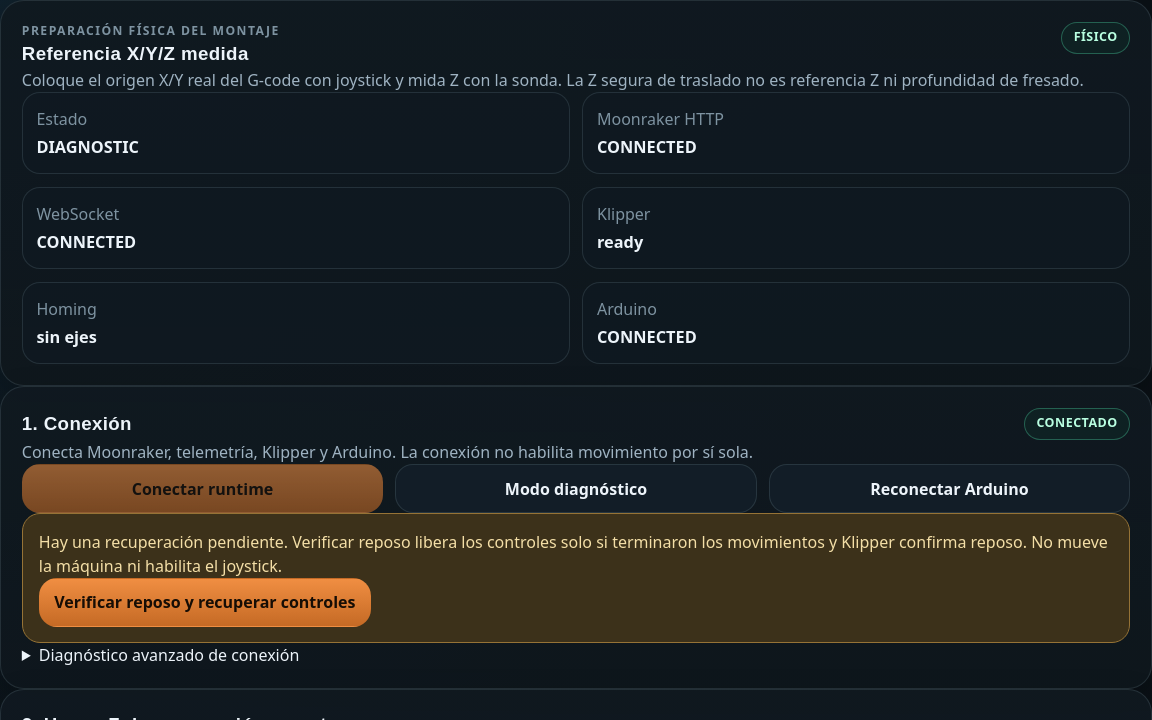
Test: ReferenceWorkspace connection and workflow UI › muestra el rechazo del backend sin simular recuperación
This screenshot has width=1152, height=720.
Click the button "Verificar reposo y recuperar controles" at {"x": 205, "y": 602}, box [39,578,371,627]
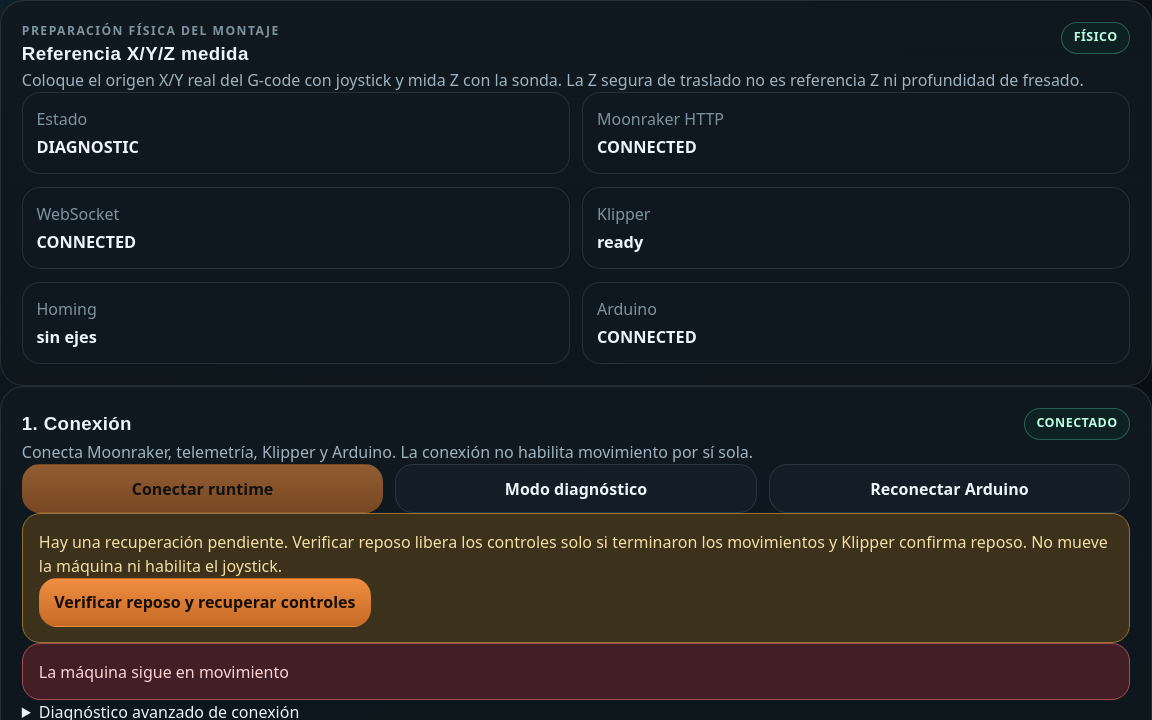
Check: the text "La máquina sigue en movimiento" is shown, box [22,643,1130,700]
